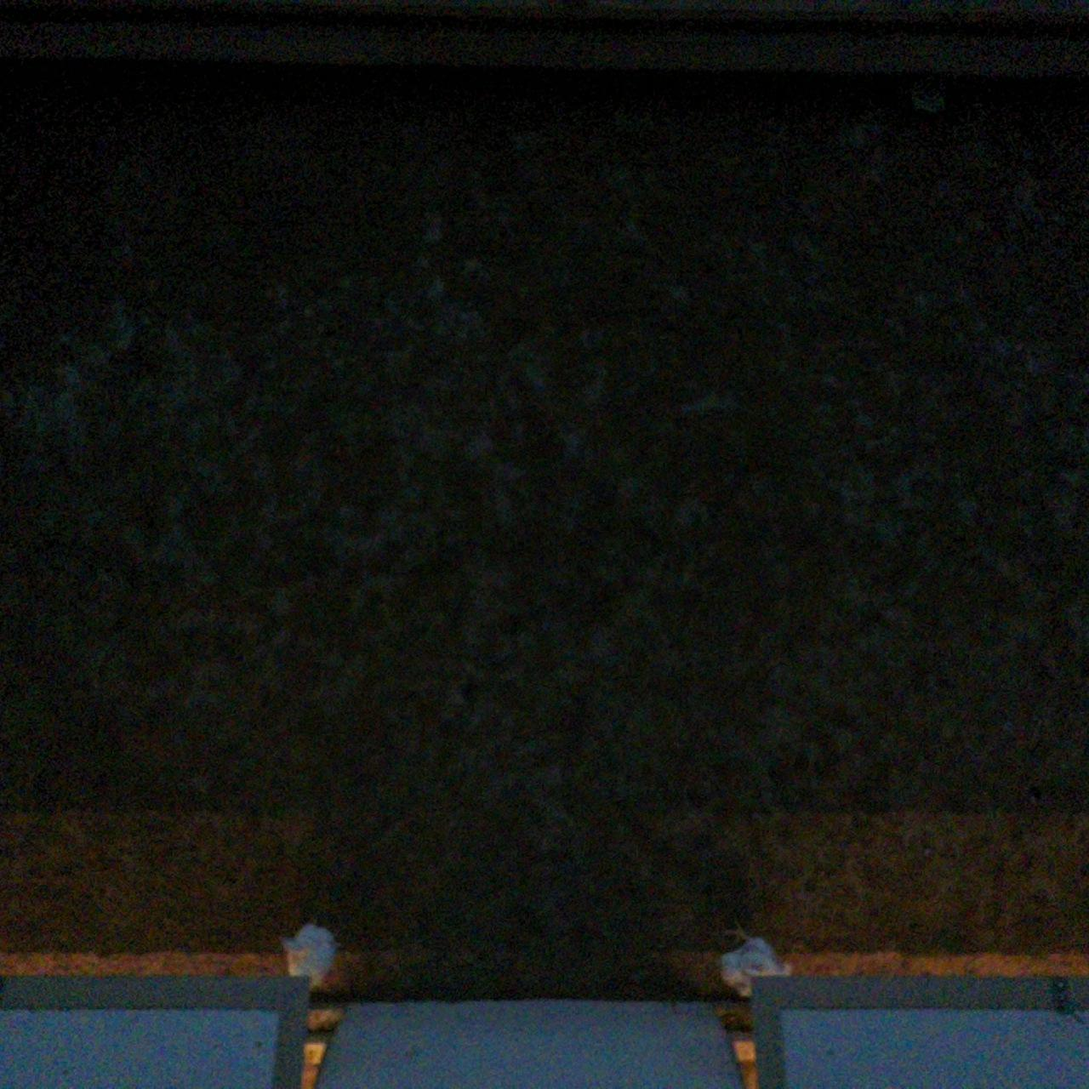chicken: (707, 912, 795, 999), (276, 921, 347, 991)
